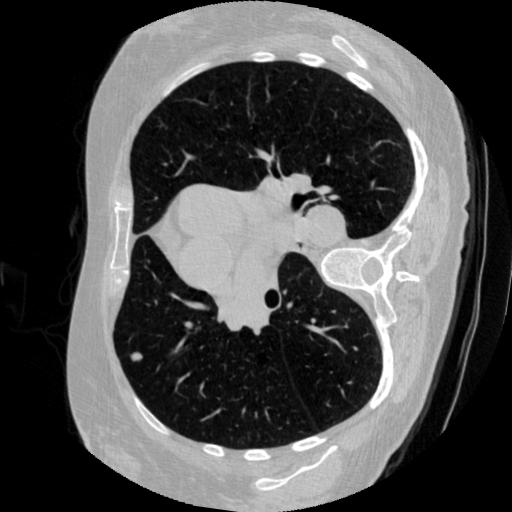nodule: (129, 350, 145, 366)
